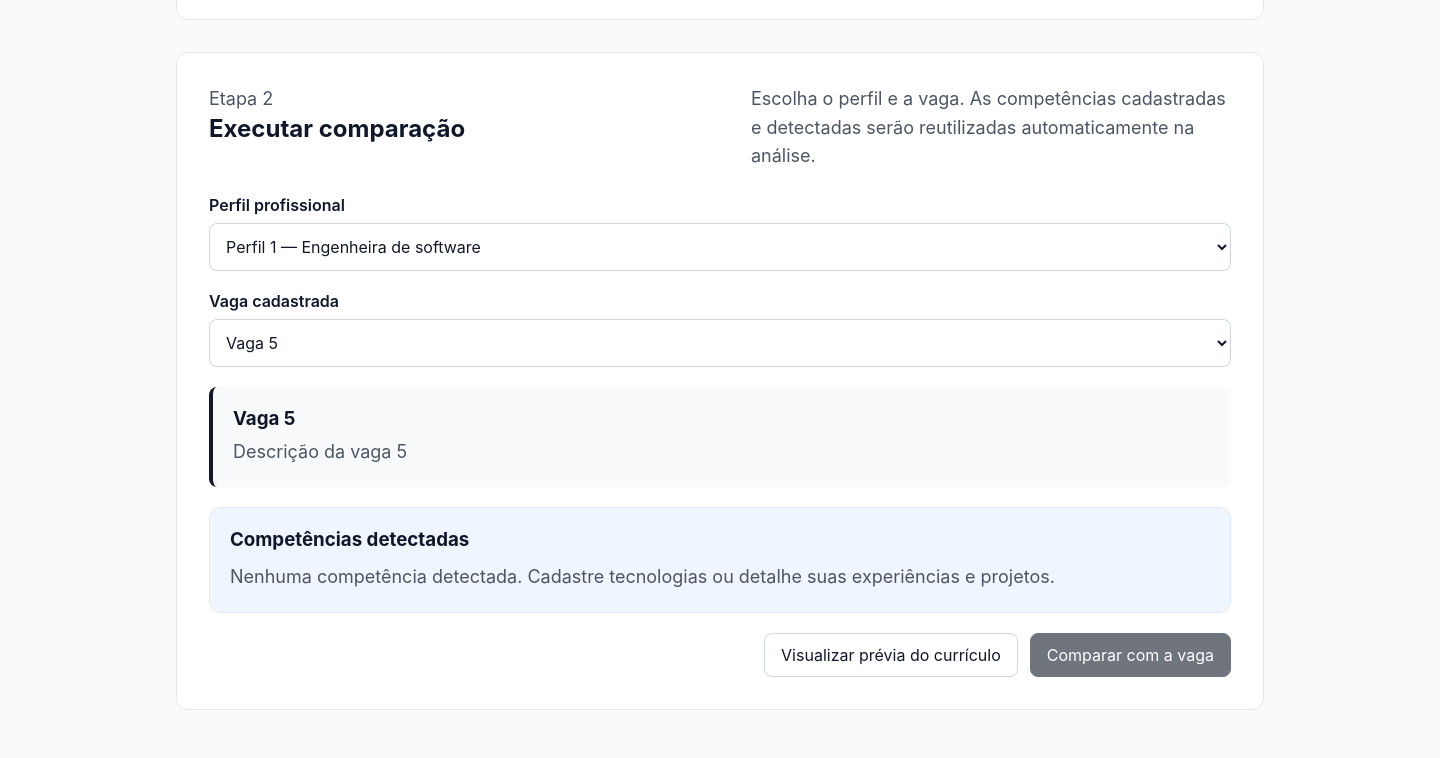
CompareJobPage asynchronous preview robustness › R-003 keeps the newer response when B resolves before A
(page scrolled)
Click the button "Visualizar prévia do currículo" at {"x": 891, "y": 655}, box top-left (764, 633), bottom-right (1018, 677)
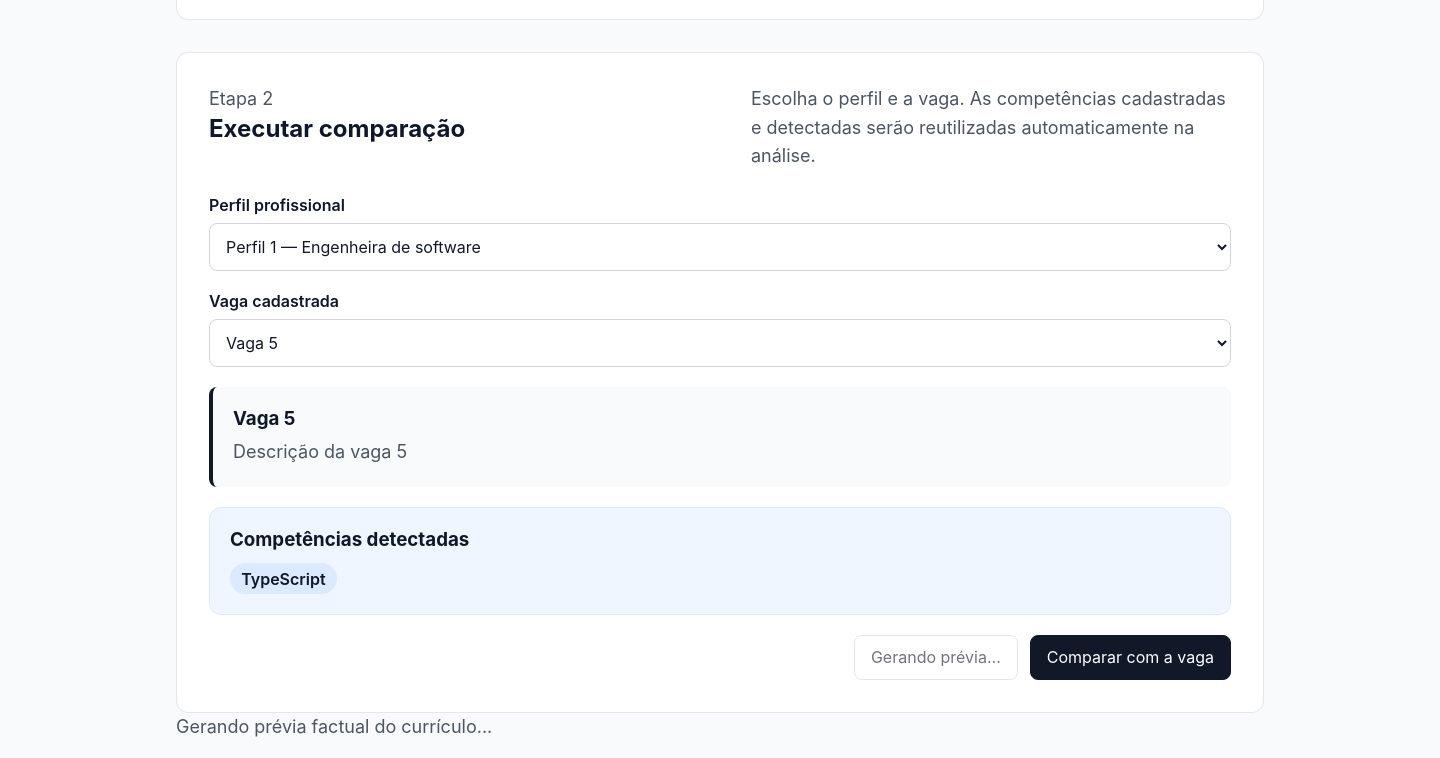
Select "Vaga 1" in the dropdown labelled "Vaga cadastrada" at {"x": 720, "y": 343}, box top-left (209, 319), bottom-right (1231, 367)
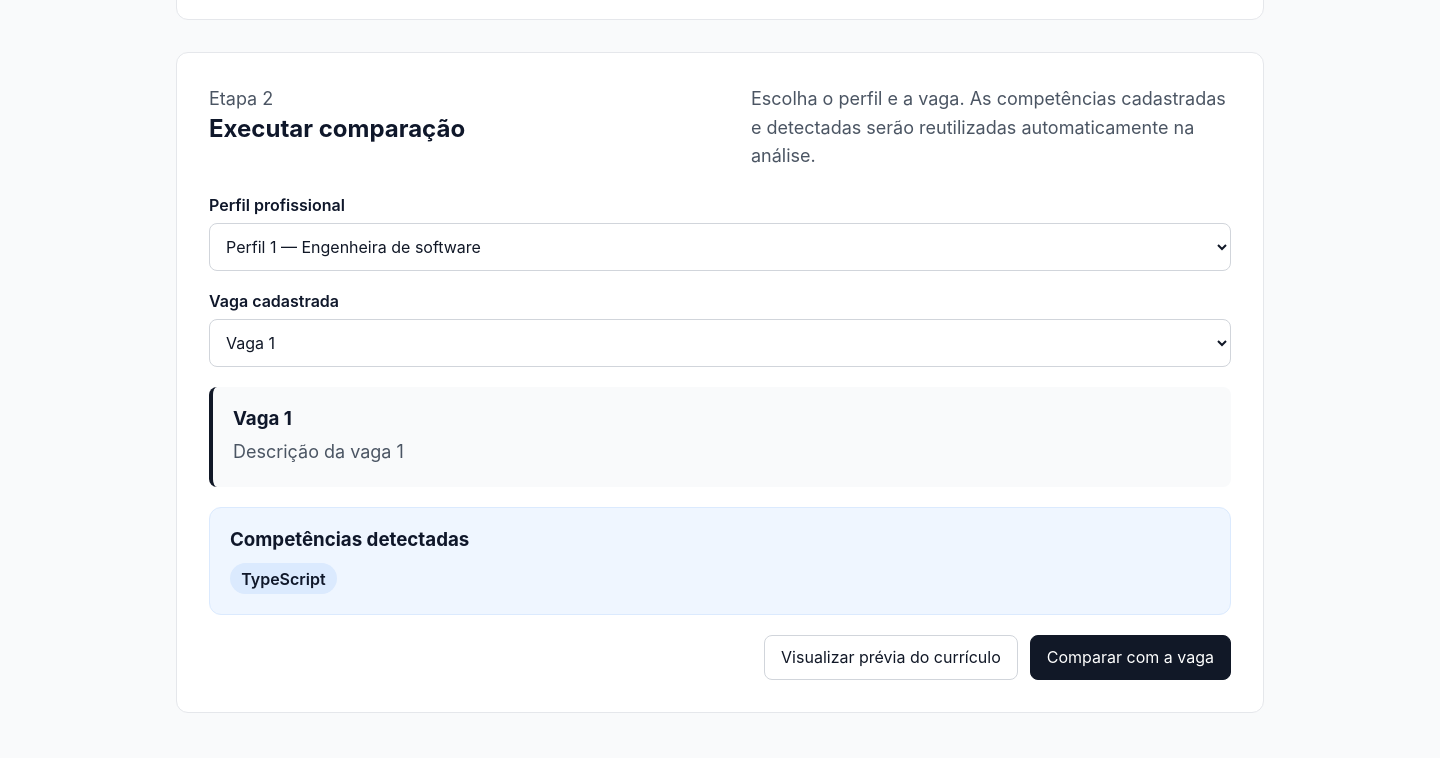
Click the button "Visualizar prévia do currículo" at {"x": 891, "y": 657}, box top-left (764, 635), bottom-right (1018, 680)
(page scrolled)
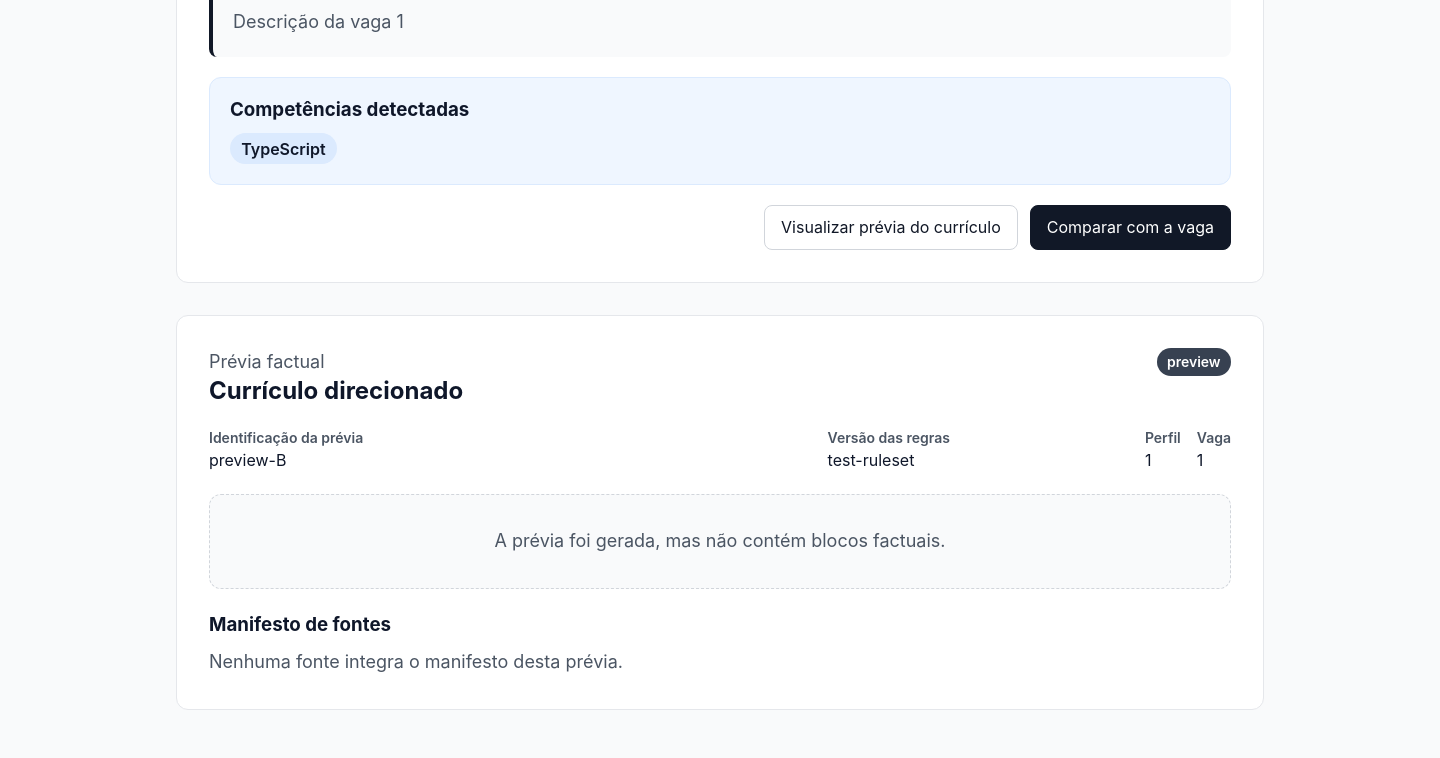
Check: the text "preview-B" is shown, box top-left (209, 450), bottom-right (286, 470)
